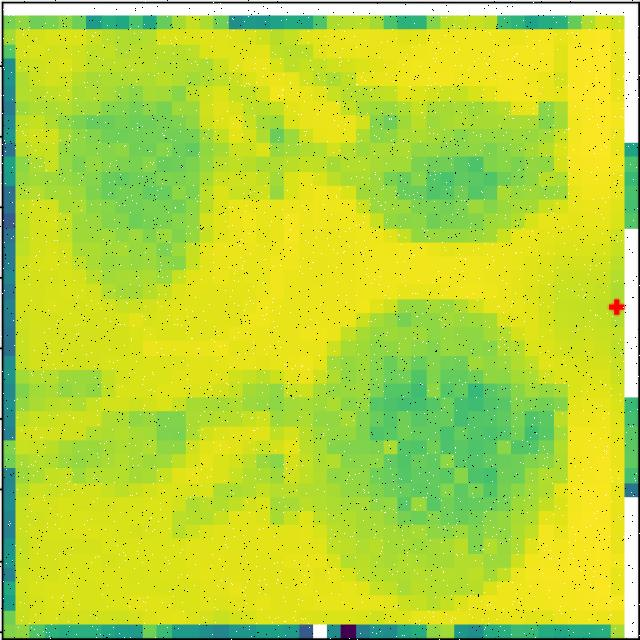Concrete: (95, 406, 187, 489)
Glass: (327, 317, 544, 573)
Metal: (65, 71, 206, 304)
Wood: (345, 93, 561, 247)
